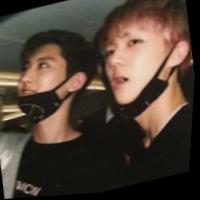WRONG: (99, 27, 186, 119), (9, 47, 83, 123)
